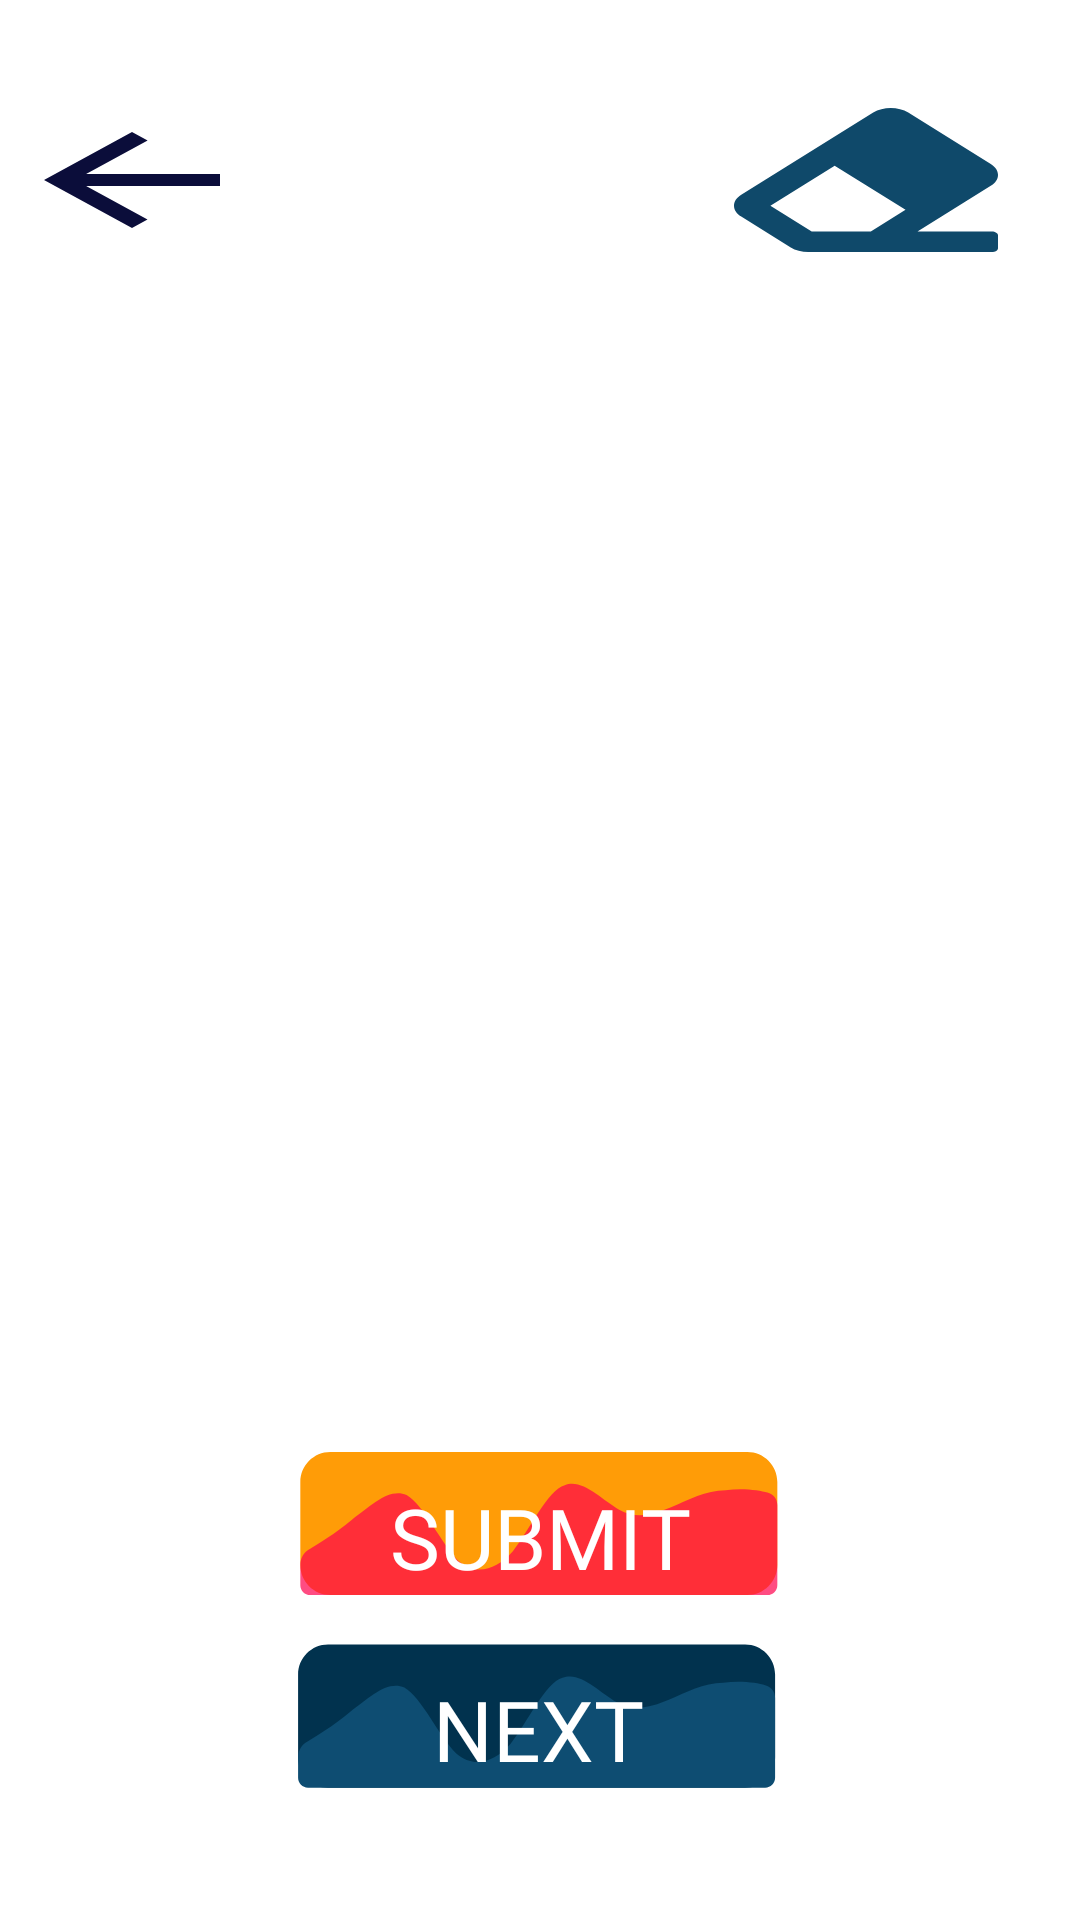

Icon click points for this 1080x1920 phone screenshot, format (x,y):
arrow back: (132,180)
clear: (866,180)
